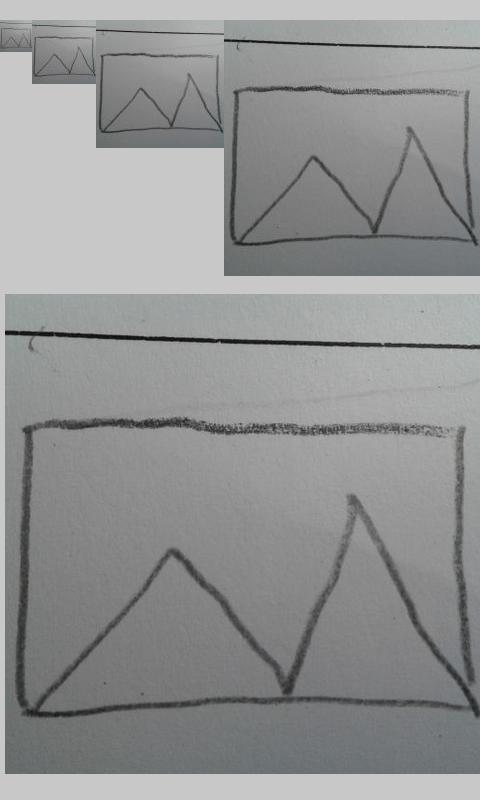image_view: (17, 417, 480, 718), (230, 86, 475, 246), (98, 52, 222, 133), (33, 36, 95, 77), (1, 27, 31, 49)
